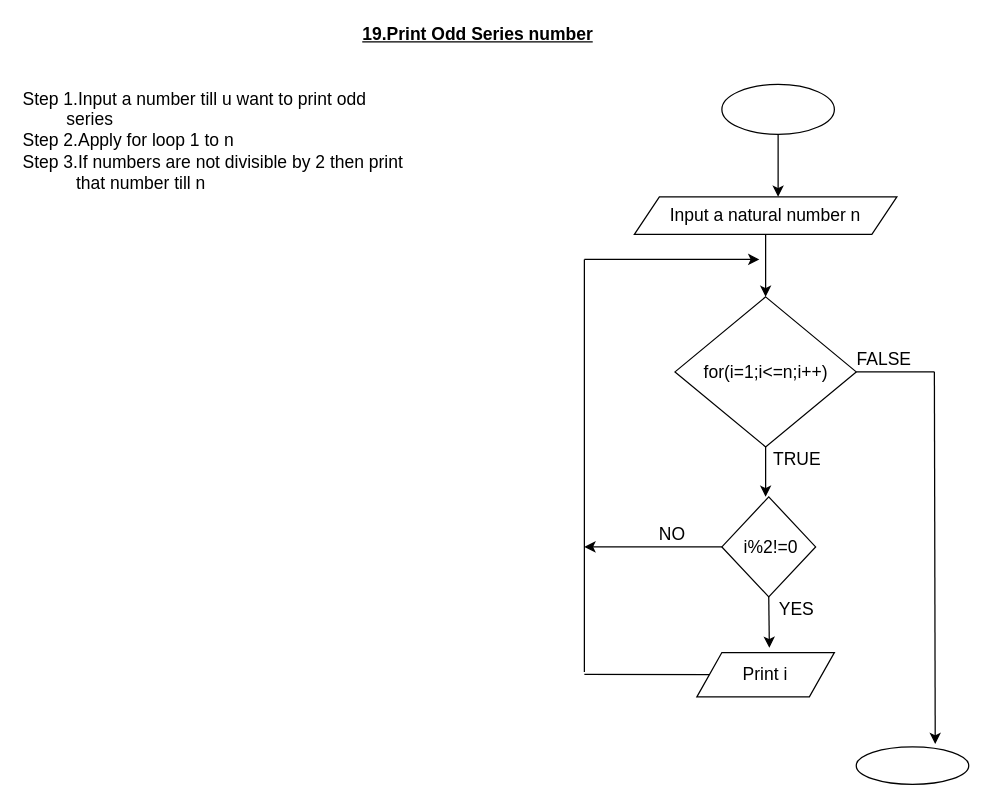
The diagram is 990 pixels wide and 806 high, and some of its shapes have lost their labels. Each missing label, with the centre of its shape:
"Start" goes at (777,108).
"Stop" goes at (912,765).
